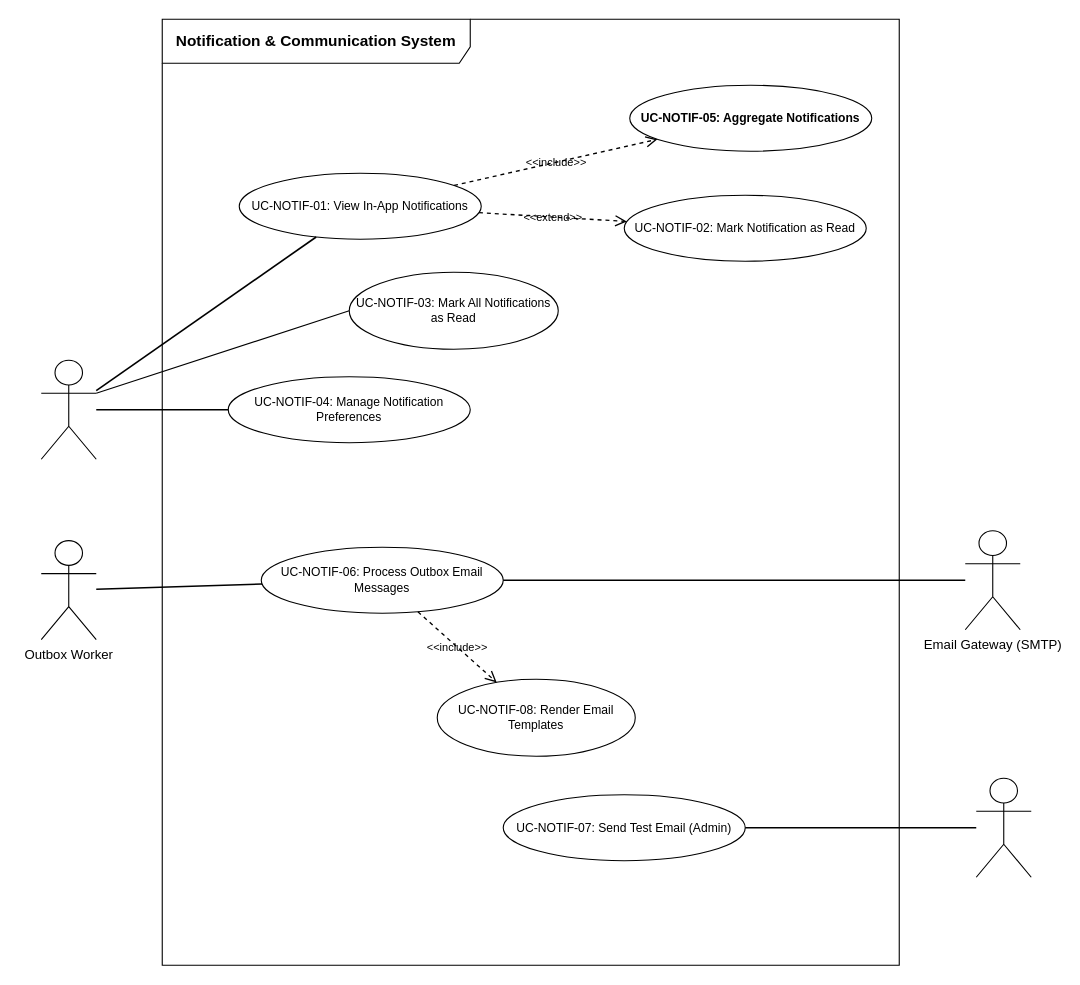
Image size: 1080x985. Some labels were removed from this diagram. The centre of each missing label's shape, as x and y in pixels:
Super Admin: point 1003,827
User / Candidate: point 68,409
